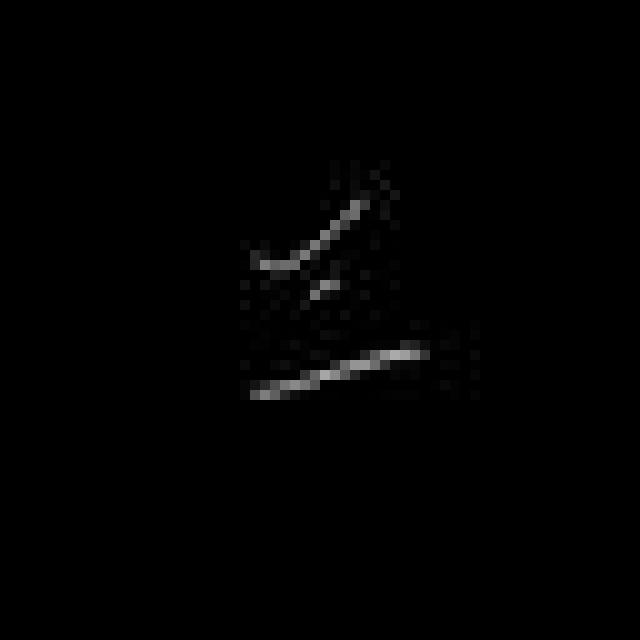3 -three-: (225, 192, 441, 424)
